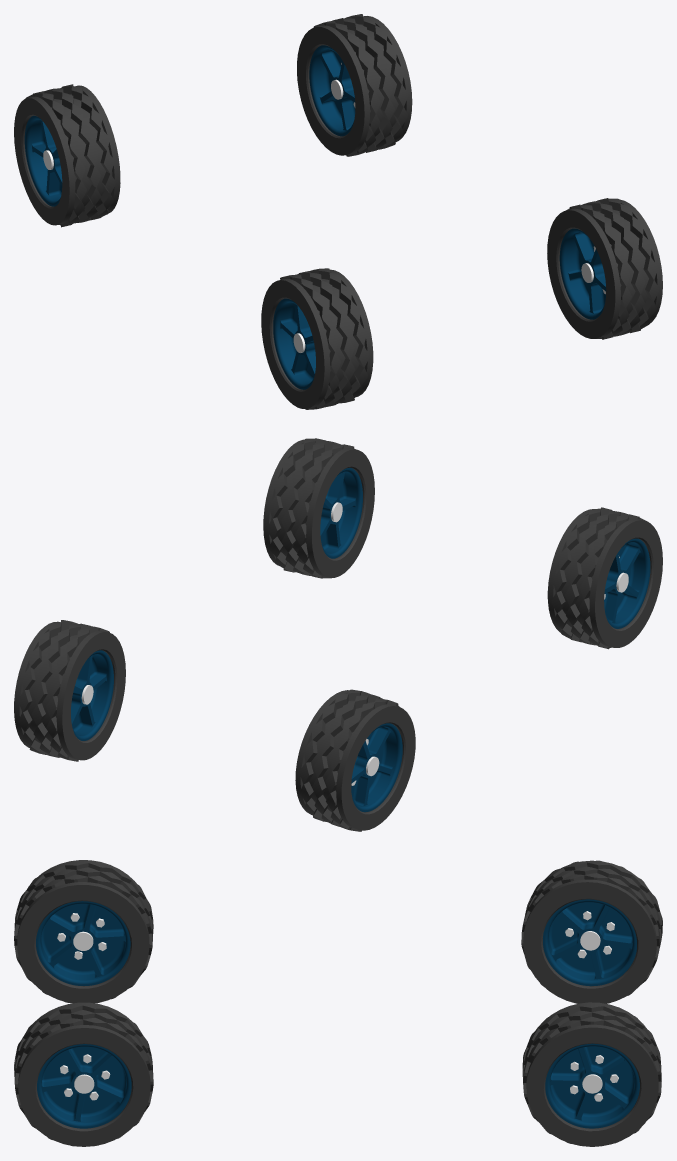
Rendered from chassis-inv.glb.
The picture shows the model from 3 angles, top to bottom: view 1: azimuth 30°, elevation 25°; view 2: azimuth 150°, elevation 25°; view 3: azimuth 270°, elevation 25°; orthographic projection. The views are drawn at different scales.
Parts seen in each view (by area): view 1: Body164 (×4), Body2 (×4); view 2: Body164 (×4), Body2 (×4); view 3: Body164 (×4), Body2 (×4).
Boxes of the visible parts, <box> form: Body164 (×4): <box>14,14,662,409</box>; Body2 (×4): <box>24,45,606,389</box>; Body164 (×4): <box>14,438,662,831</box>; Body2 (×4): <box>71,467,650,812</box>; Body164 (×4): <box>14,860,662,1146</box>; Body2 (×4): <box>36,899,639,1128</box>.
Bounding box in the file's own units: 2.38 × 0.8326 × 3.86.
